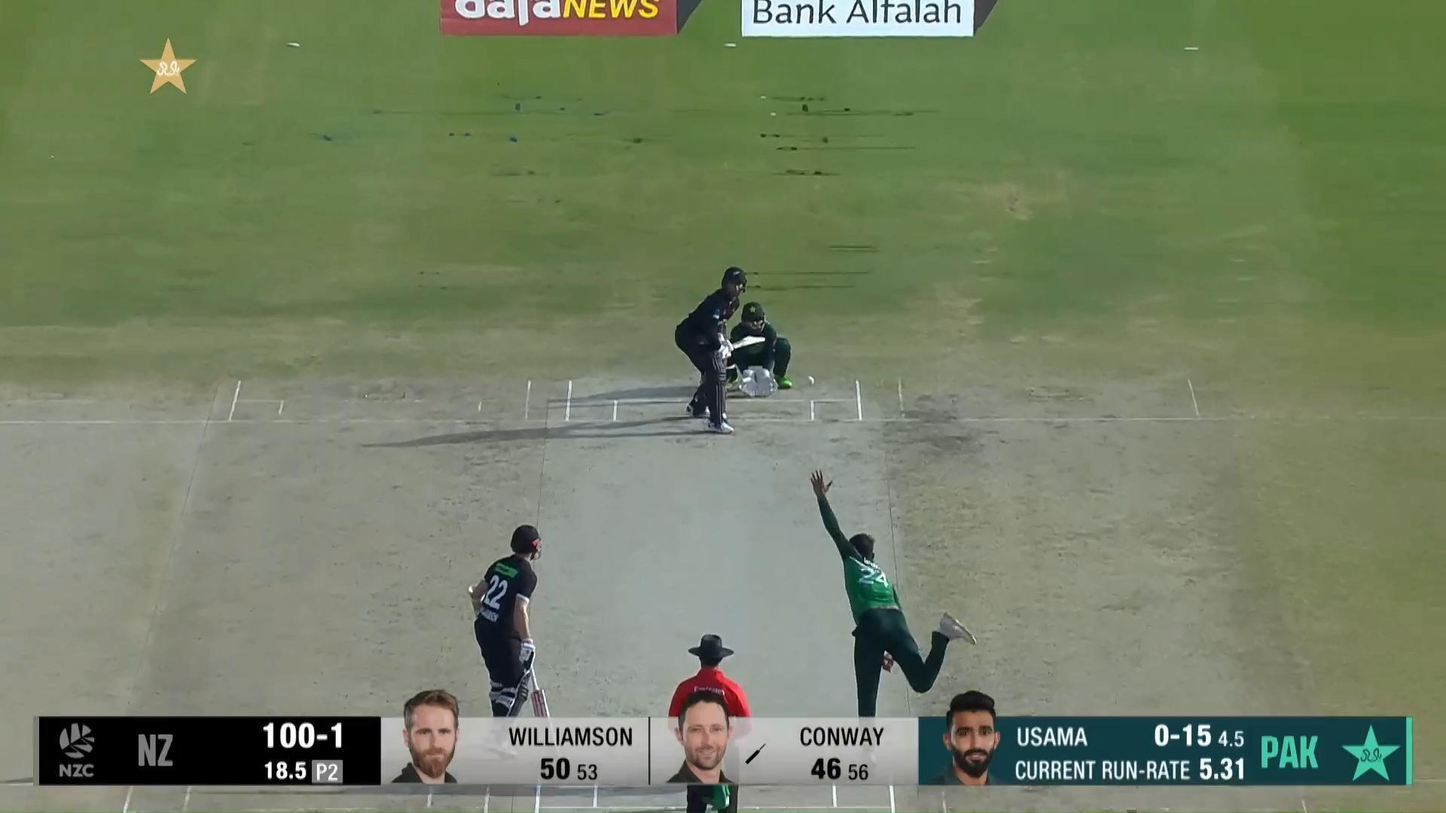BM 1: (674, 266, 766, 434)
BO: (810, 469, 978, 717)
